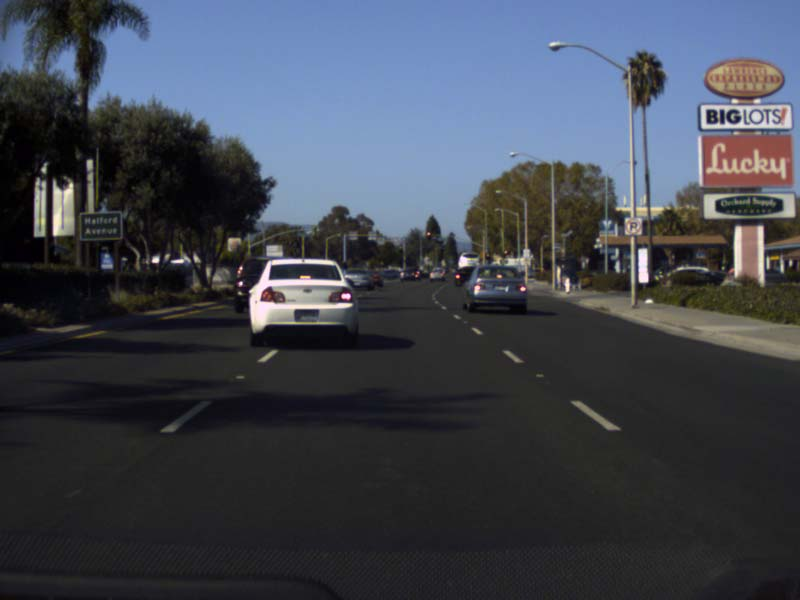Red: (425, 231, 432, 240), (485, 253, 490, 259), (503, 249, 507, 254)
